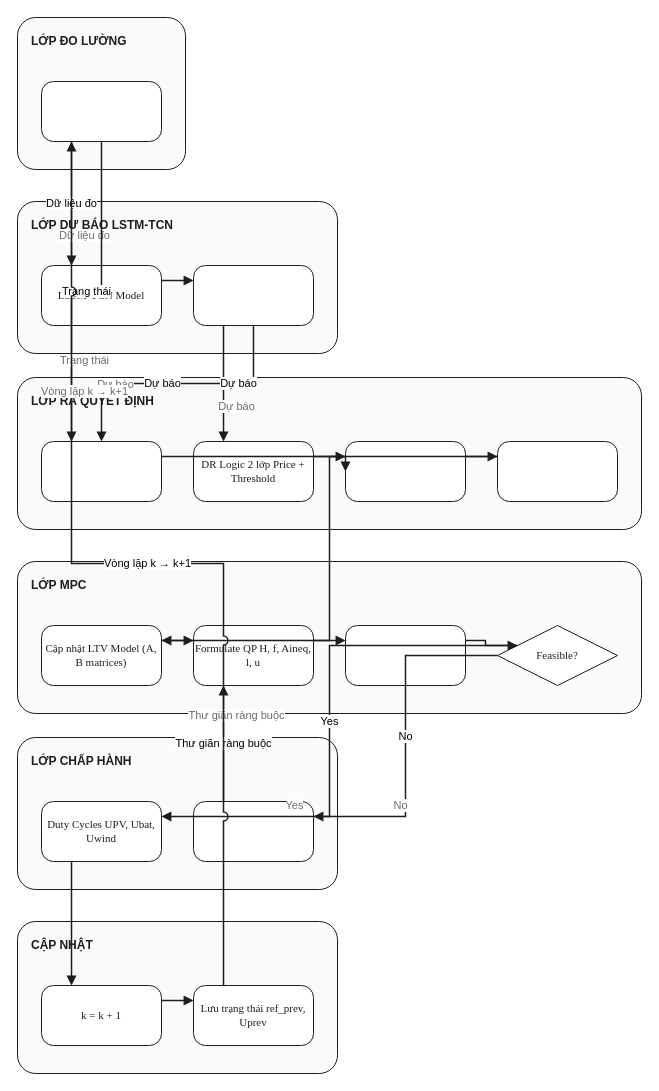
Image size: 659x1091. Some labels were removed from this diagram. Here are the shapes that lost their labels. From the top down, the centre of each, then its label:
At point (101, 111): "Cảm biến: Vpv, Ipv, Vbat, Ibat, Iwind, VDC, SOC".
At point (253, 295): "Dự báo: ĜHI, T̂emp, Ŵspd, L̂oad, P̂rice".
At point (101, 471): "Power Management System 6 modes M1–M6".
At point (405, 471): "Tính Reference Currents".
At point (557, 471): "Sigmoid Integration".
At point (405, 655): "OSQP Solver min ½zᵀHz + fᵀz".
At point (253, 831): "Soft Constraints Thêm slack ε".
